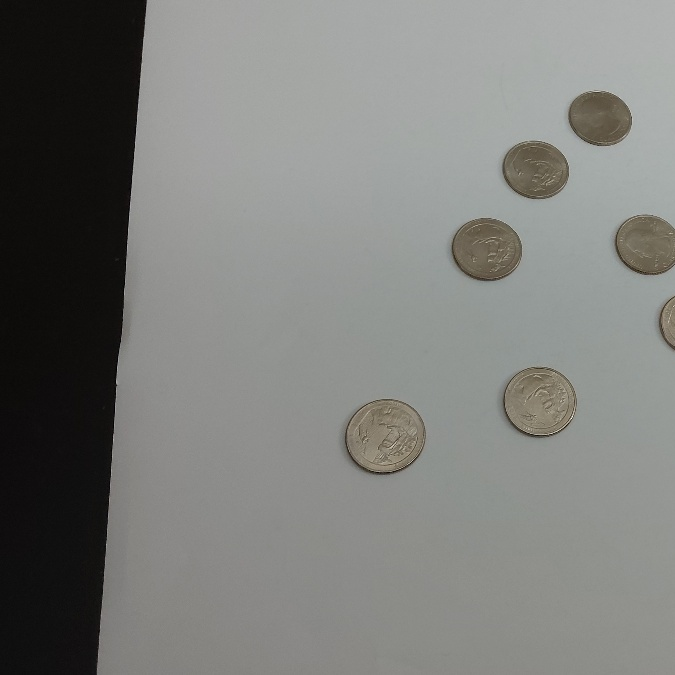coin_quarter: (344, 393, 428, 473), (504, 361, 580, 442), (449, 213, 528, 284), (564, 87, 636, 151), (501, 135, 572, 199)
